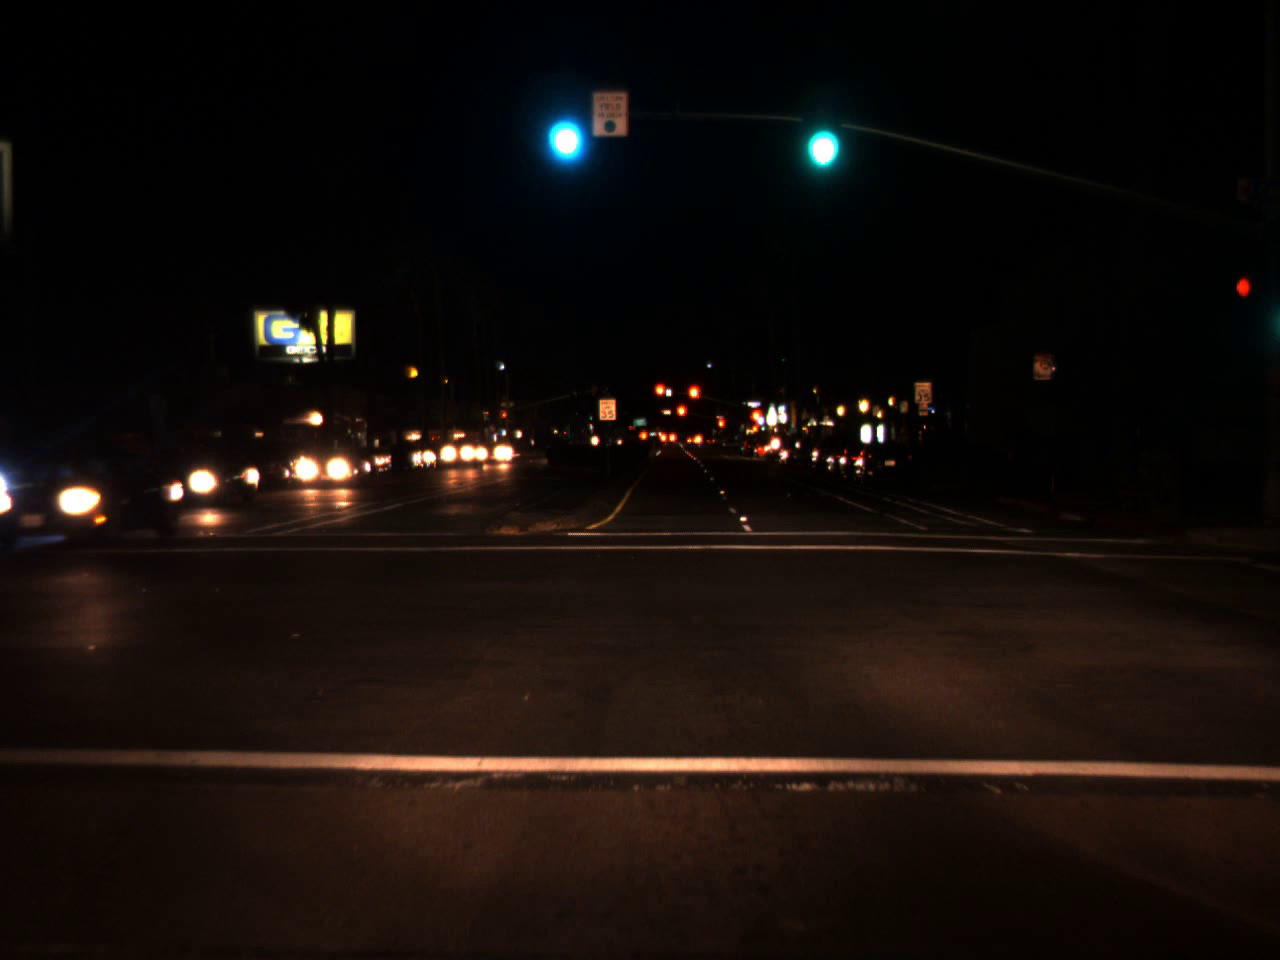go: (797, 90, 842, 177), (545, 95, 584, 164)
stop: (686, 383, 702, 415), (748, 407, 764, 439), (653, 381, 668, 408), (674, 403, 687, 430), (717, 415, 724, 439), (501, 412, 507, 422)
